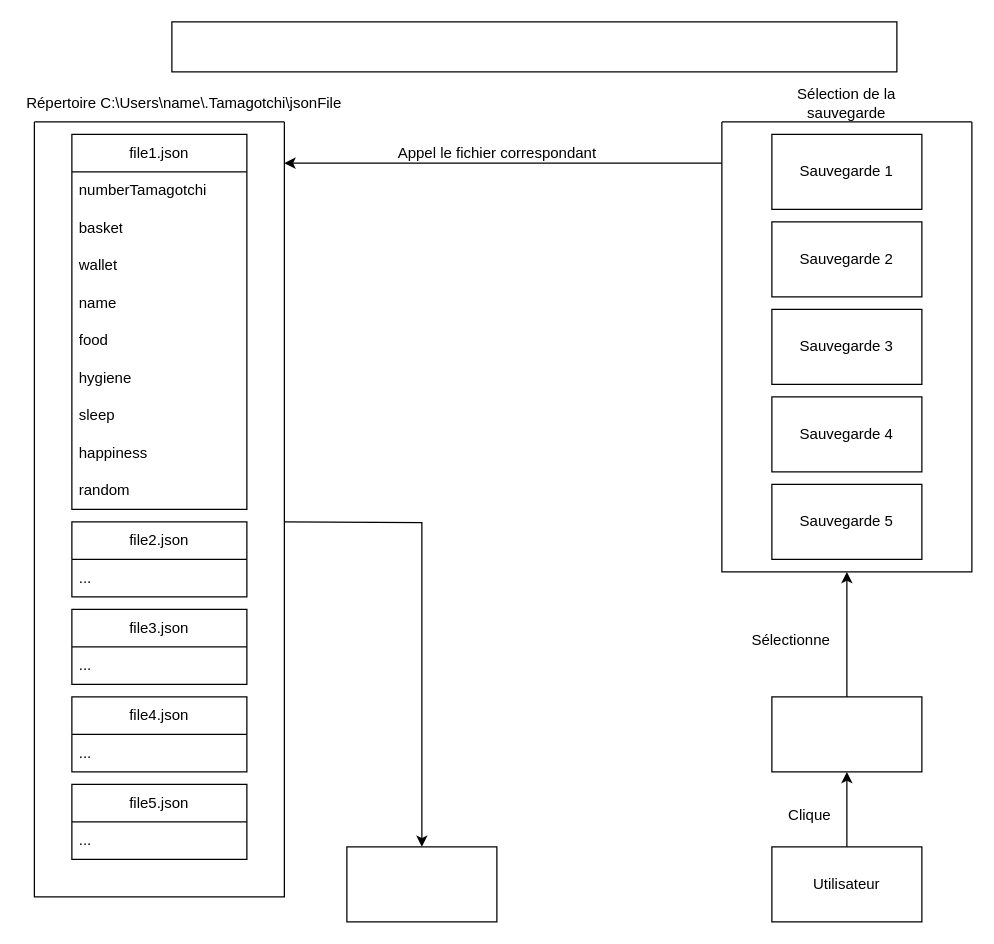
This 994x944 diagram has some shape labels left out. Each missing label, with the centre of its shape:
Affiche la partie sélectionnée: point 421,884
Partie sauvegarde: point 846,734
Schéma Conceptuel des données persistantes: point 534,46
